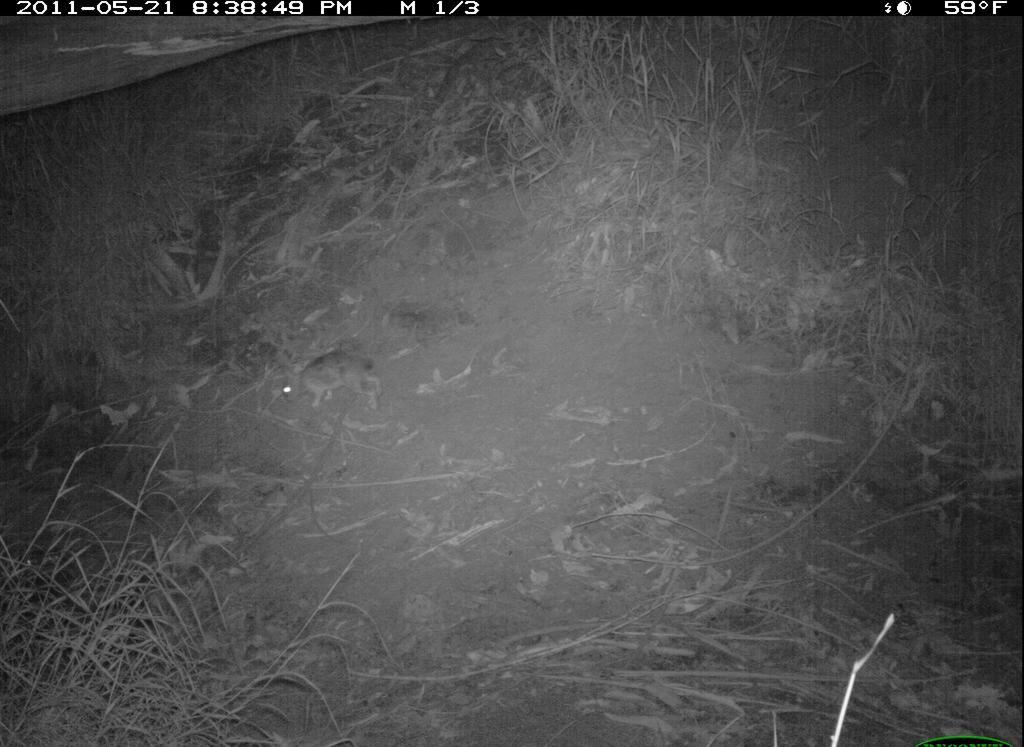rabbit: (268, 338, 396, 420)
